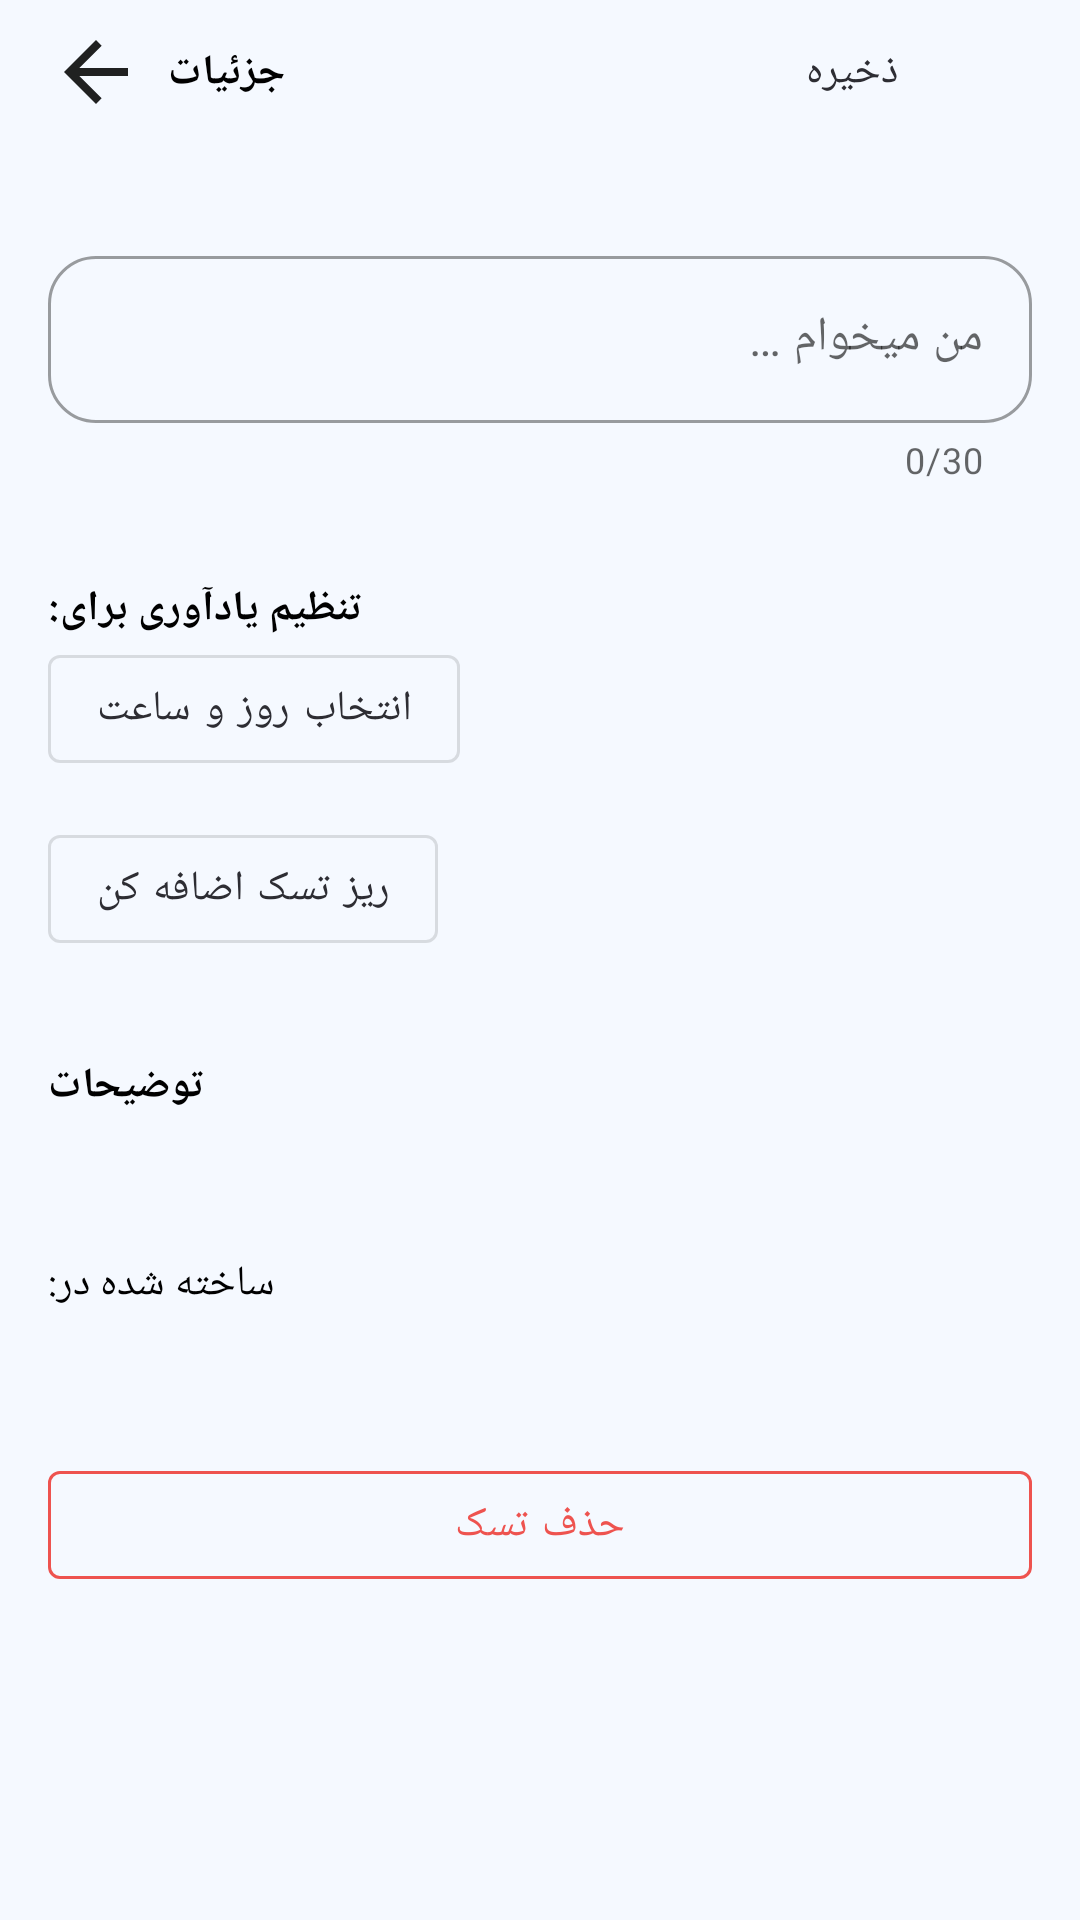

Locate icon controls on the screen. Image size 1080x1920, boxes as (x1, y1, x2, y2).
arrow back: (64, 40, 128, 104)
